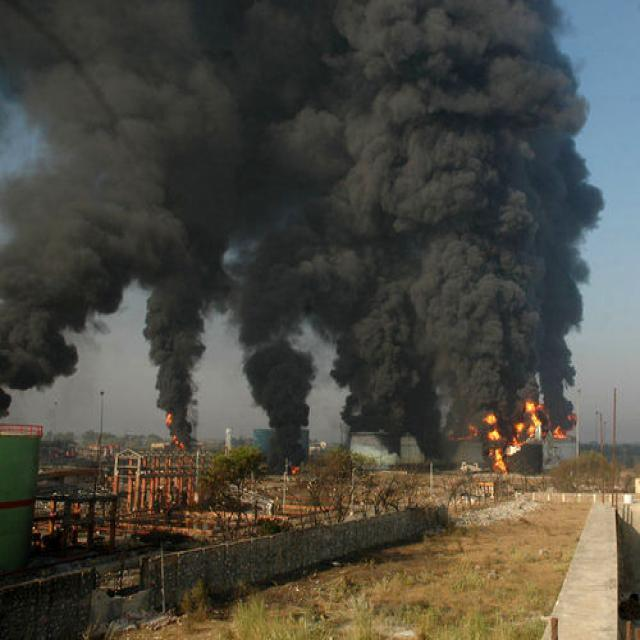Smoke: (1, 3, 606, 414)
